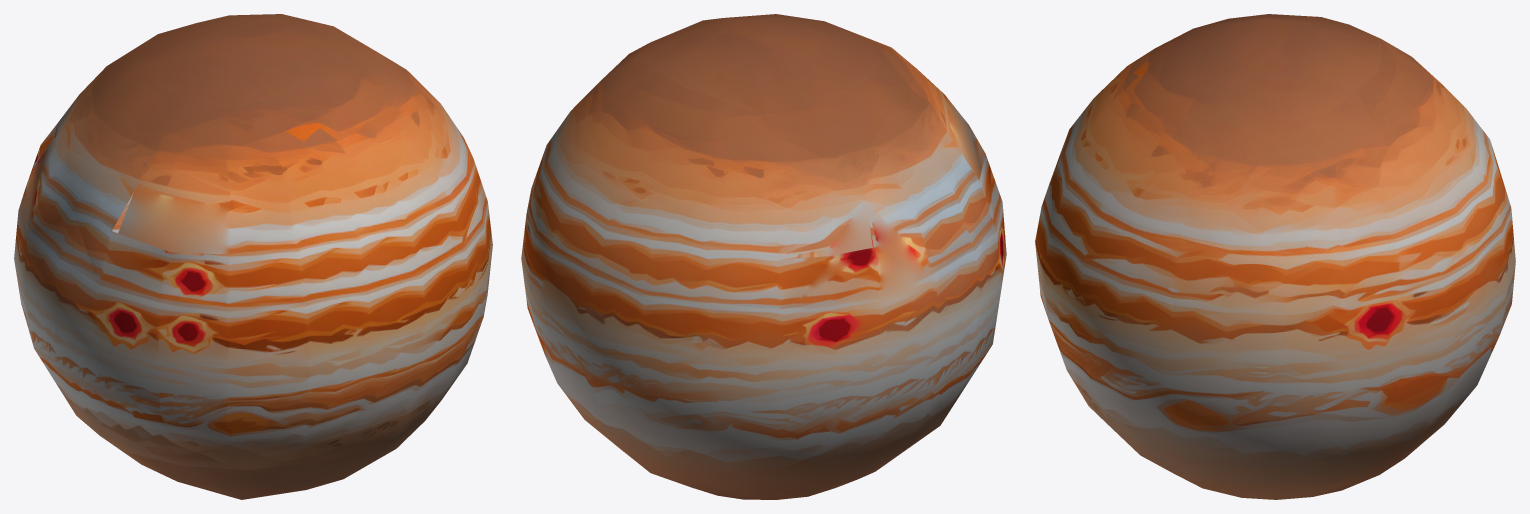
File: jupiter_20260526.glb
The picture shows the model from 3 angles, left to right: view 1: azimuth 30°, elevation 25°; view 2: azimuth 150°, elevation 25°; view 3: azimuth 270°, elevation 25°; orthographic projection.
Parts seen in each view (by area): view 1: material; view 2: material; view 3: material.
Part boxes in pixels (x1=…): material: x1=14, y1=14, x2=492, y2=499; material: x1=521, y1=14, x2=1006, y2=499; material: x1=1035, y1=14, x2=1515, y2=499.
Bounding box in the file's own units: 1.9 × 1.89 × 1.9.
Materials: 1 (1 with a texture image).
